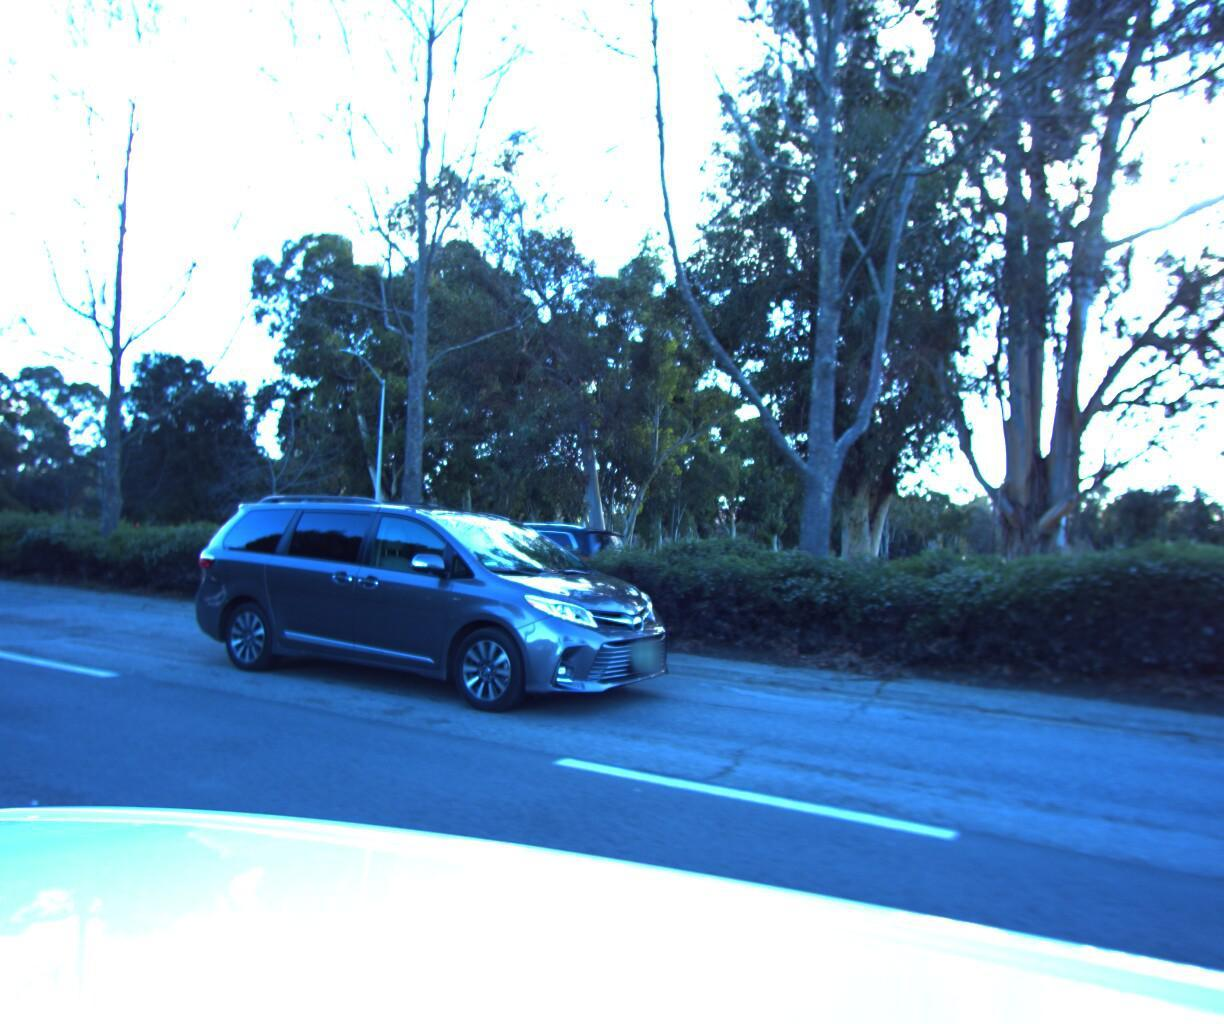car: (117, 484, 610, 716), (462, 513, 703, 614)
